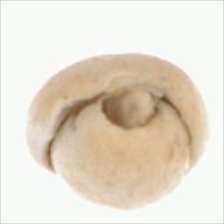L3: (97, 78, 175, 129)
L4: (27, 53, 208, 209)
